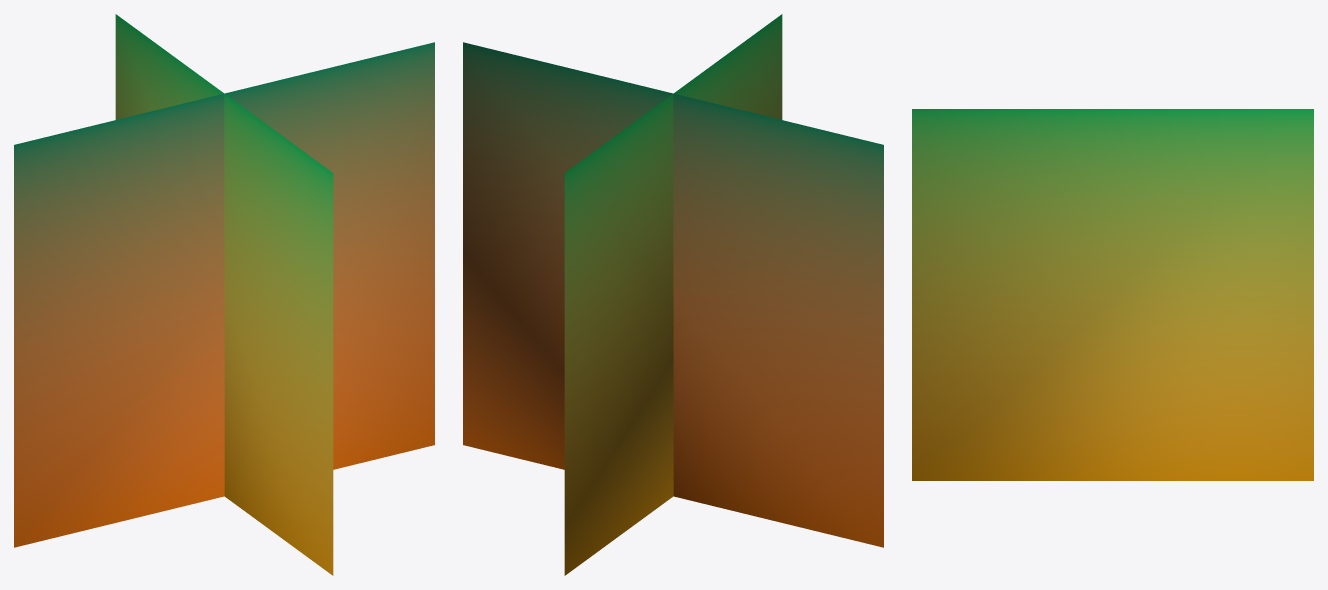
File: SM_Bush_Hawthorn_B_LOD3.fbx
The picture shows the model from 3 angles, left to right: view 1: azimuth 30°, elevation 25°; view 2: azimuth 150°, elevation 25°; view 3: azimuth 270°, elevation 25°; orthographic projection. The views are drawn at different scales.
Visible parts, largest first — view 1: SM_Bush_Hawthorn_B_LOD3; view 2: SM_Bush_Hawthorn_B_LOD3; view 3: SM_Bush_Hawthorn_B_LOD3.
Part boxes in pixels (x1,y1,x2,y2): SM_Bush_Hawthorn_B_LOD3: [14, 14, 434, 575]; SM_Bush_Hawthorn_B_LOD3: [463, 14, 883, 575]; SM_Bush_Hawthorn_B_LOD3: [912, 109, 1313, 480].
Bounding box in the file's own units: 1.58 × 1.45 × 1.41.
